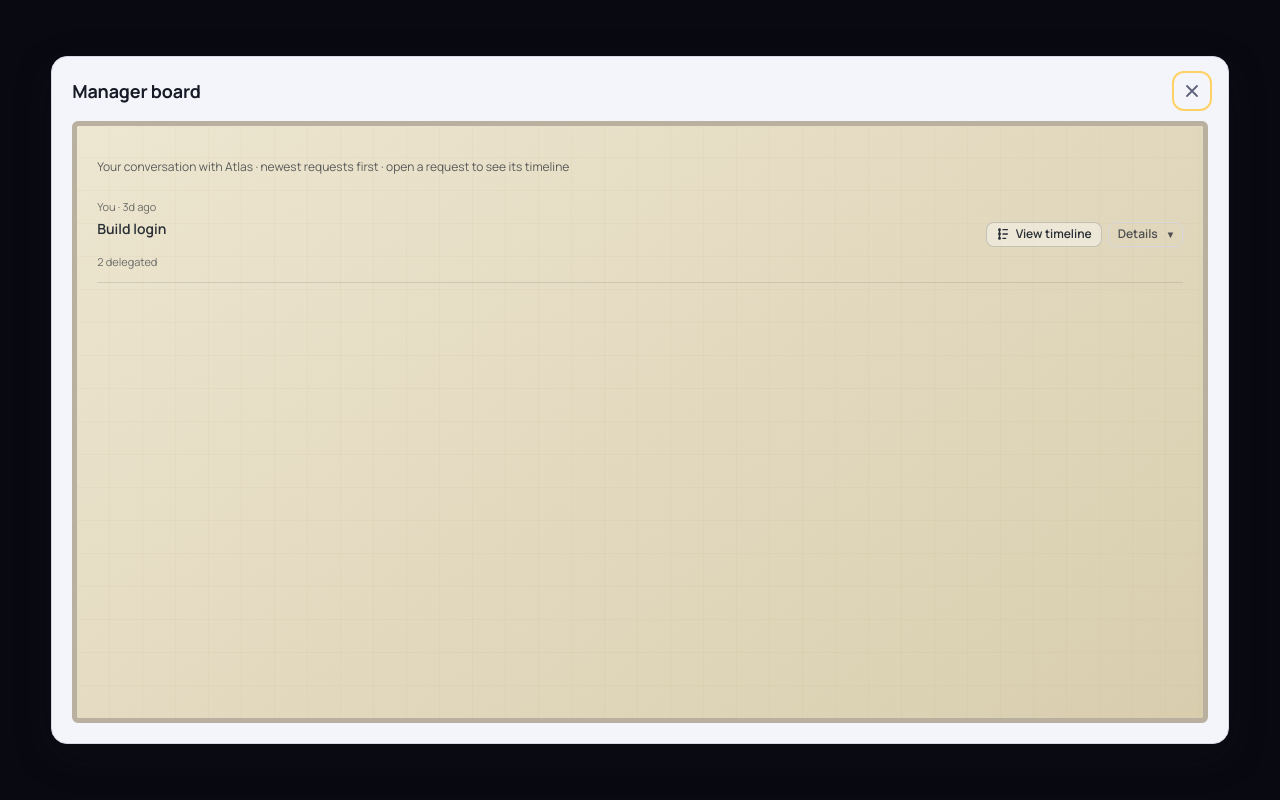
it: Manager board › renders requests with delegated tasks and progress bar
The width and height of the screenshot is (1280, 800).
Expected: the number of elements with test id "manager-row" is 1, [97,187,1183,283]
Expected: the text "Build login" is shown, [97,219,166,240]
// Expand to see delegated tasks
Click the button with aria-label "show details: build login".
click(1145, 234)  # box [1108,222,1183,247]
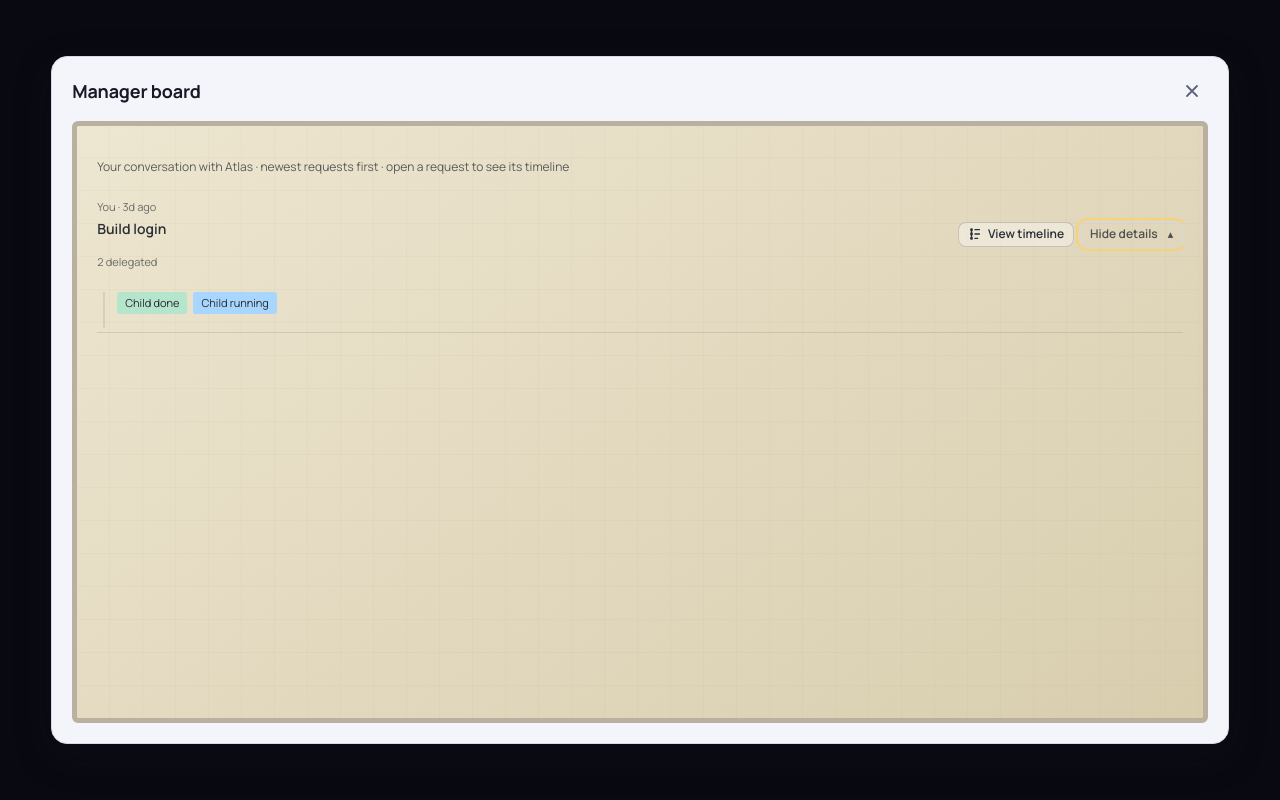
Expected: the text "Child done" is shown, [117,292,187,314]
Expected: the text "Child running" is shown, [193,292,277,314]
Expected: the button with aria-label "hide details: build login" is expanded, [1080,222,1183,247]
